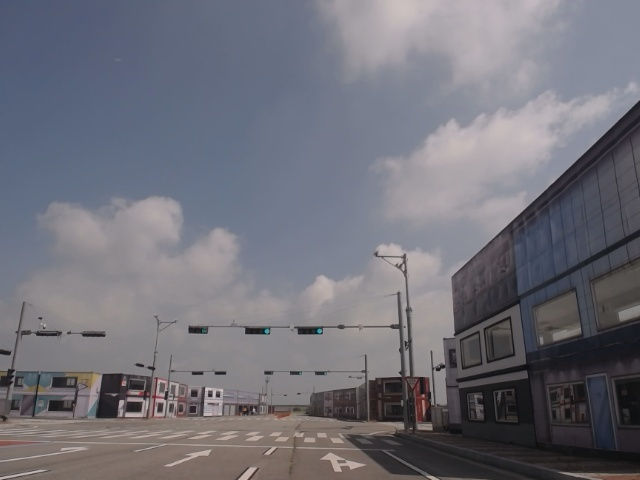straight_green_4: (298, 327, 324, 335), (244, 327, 272, 334)
